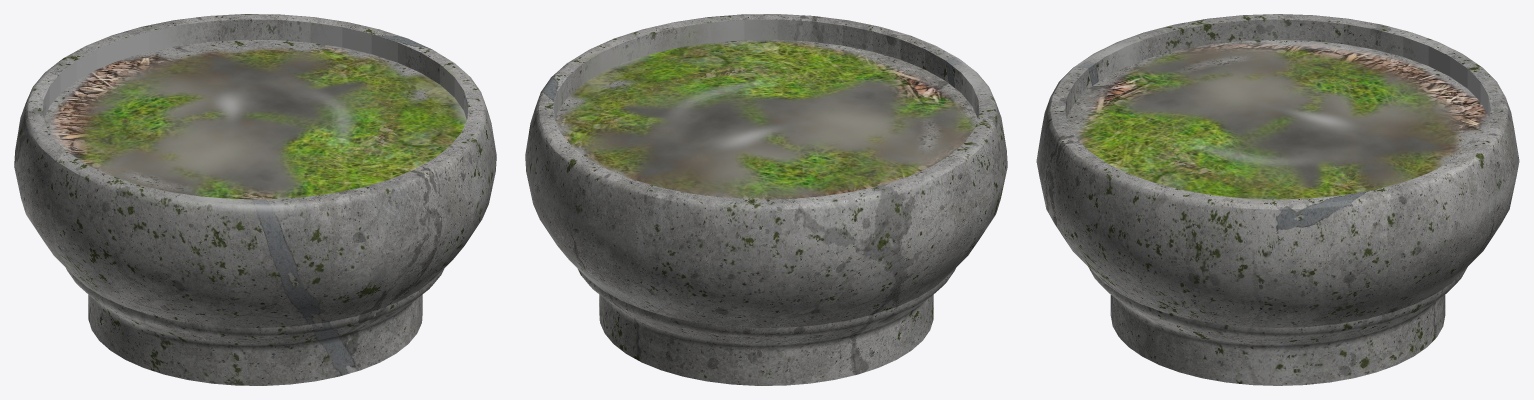
The model's file is planter_pot.glb.
3 renders of one model, left to right at view 1: azimuth 30°, elevation 25°; view 2: azimuth 150°, elevation 25°; view 3: azimuth 270°, elevation 25°, orthographic.
Parts seen in each view (by area): view 1: planter_pot; view 2: planter_pot; view 3: planter_pot.
Boxes of the visible parts, box(x1,y1,x2,y2) form: planter_pot: box(14, 14, 496, 385); planter_pot: box(525, 14, 1007, 385); planter_pot: box(1036, 14, 1519, 385).
Size of the model in its own units: 1.27 by 0.5954 by 1.27.
Materials: 1 (1 with a texture image).
